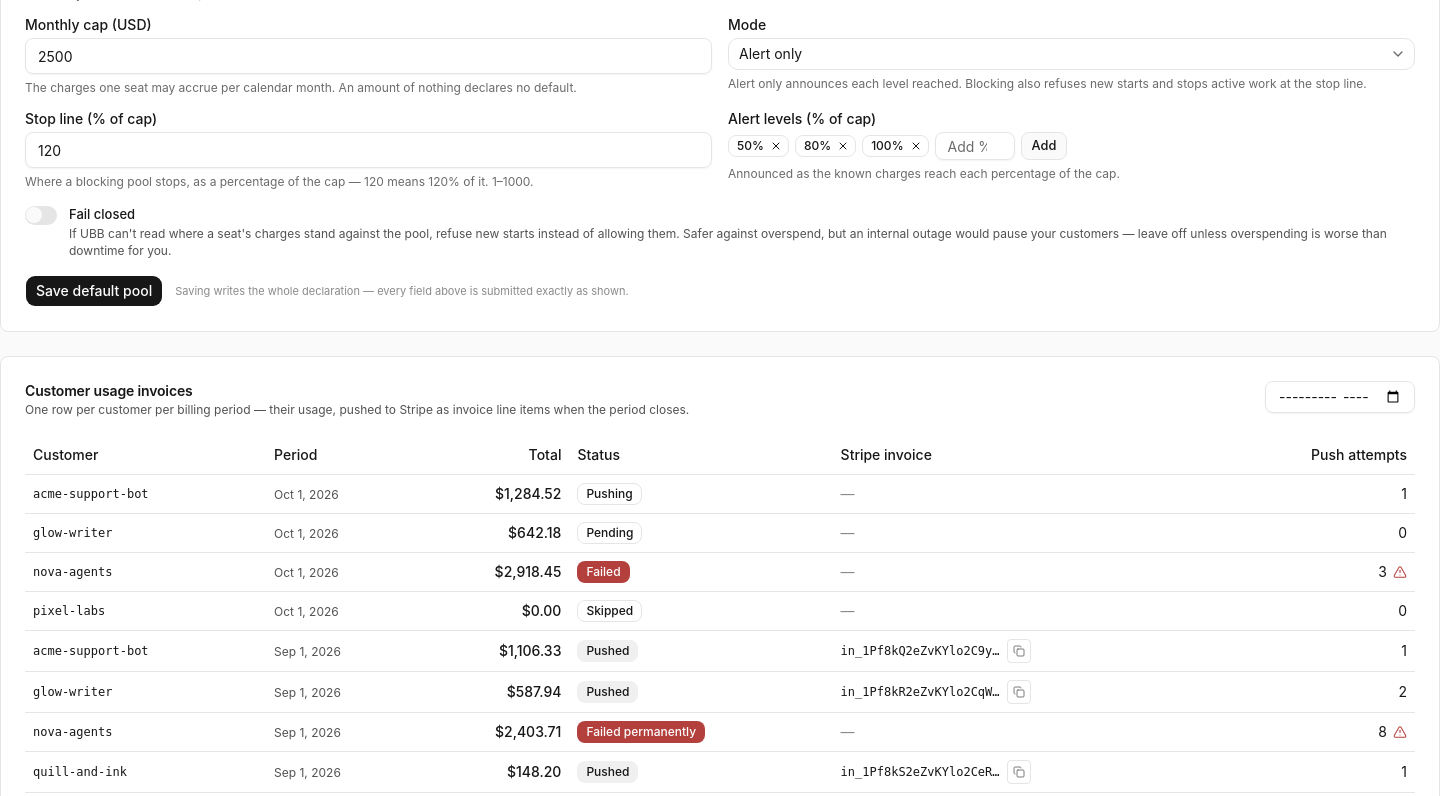
BillingPage › shows the empty state when the period filter matches nothing
(page scrolled)
Expected: the text "in_1Pf8kQ2eZvKYlo2C9yTasMx1" is shown, [841,643,1001,660]
Type "2025-01" into the field named "Filter by billing period" at (1340, 397), box [1265,381,1415,413]
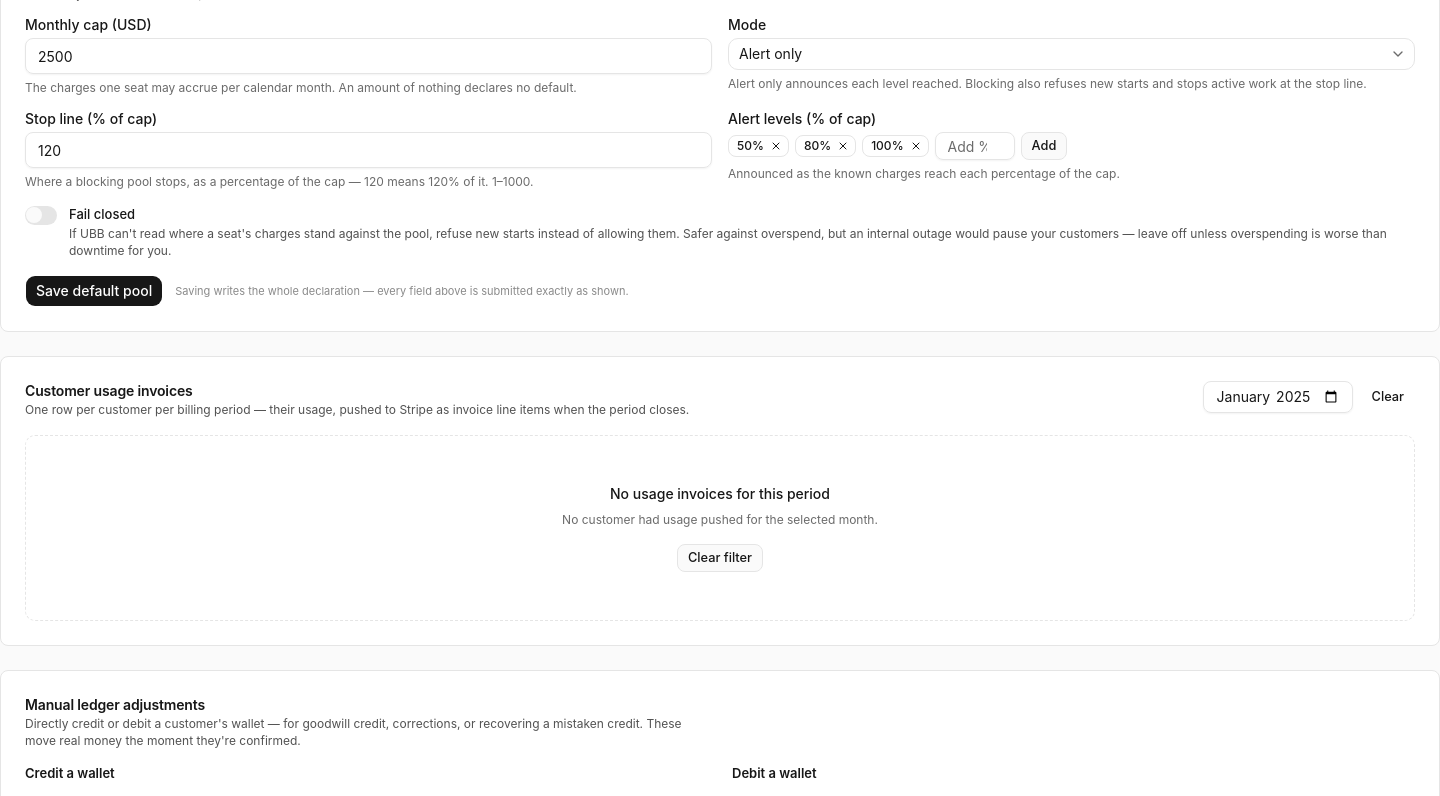
Now the text "No usage invoices for this period" is shown, box [610,484,830,504]
# The empty state's CTA restores the unfiltered list.
Click the button "Clear filter" at (720, 558), box [677,544,763,572]
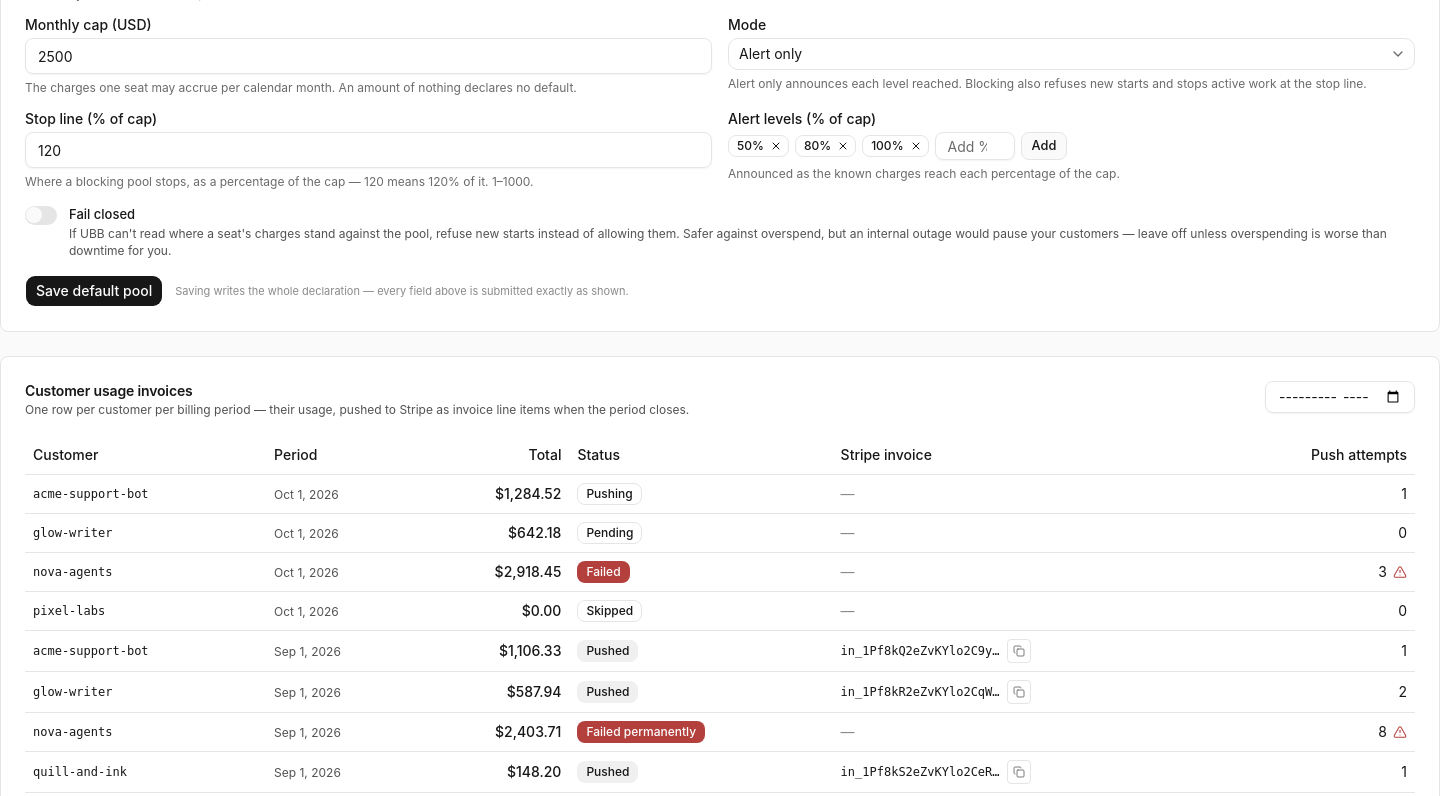
Now the text "in_1Pf8kQ2eZvKYlo2C9yTasMx1" is shown, box [841,643,1001,660]
